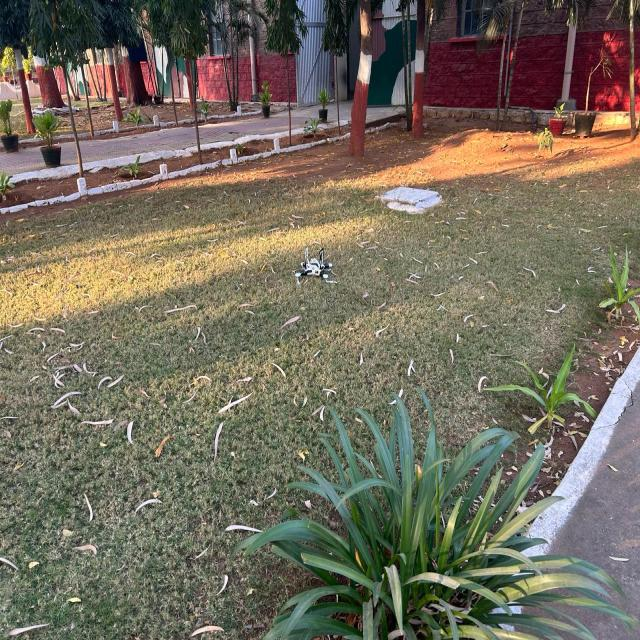drone: (263, 225, 363, 298)
